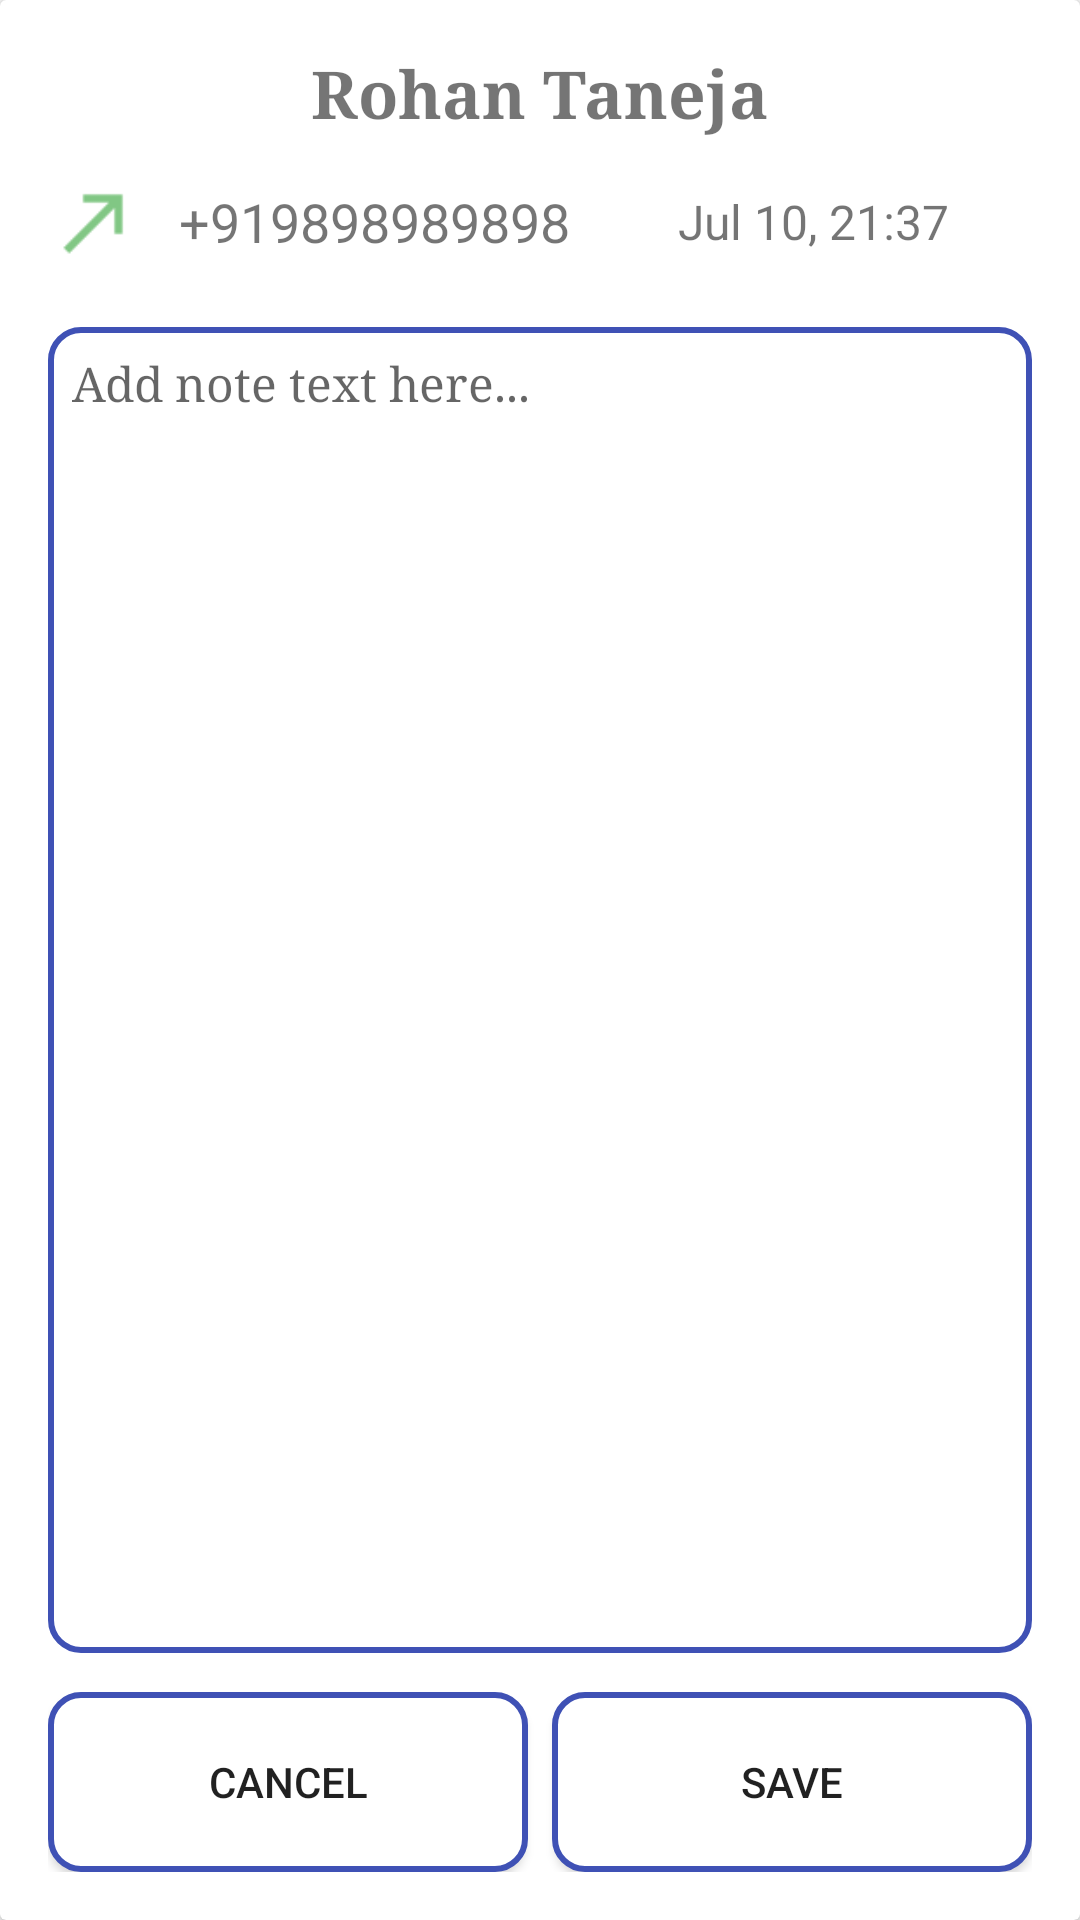

Named icons in this screenshot (1080*1920) and their bounding boxes, Rect(x1, y1, x2, y2):
Type of call: Rect(63, 194, 123, 254)
